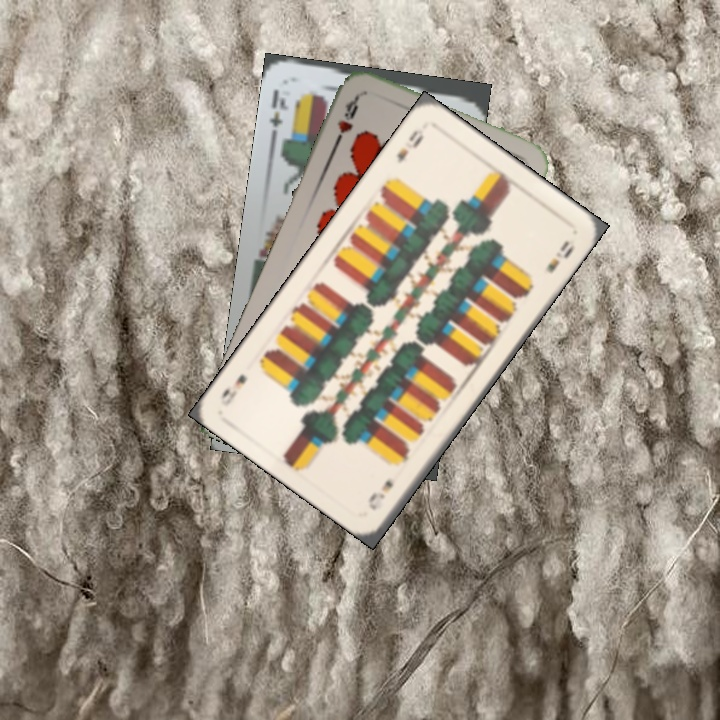E9: (393, 125, 426, 165), (364, 475, 396, 513)
EK: (266, 85, 291, 139)
H9: (330, 91, 362, 147)
